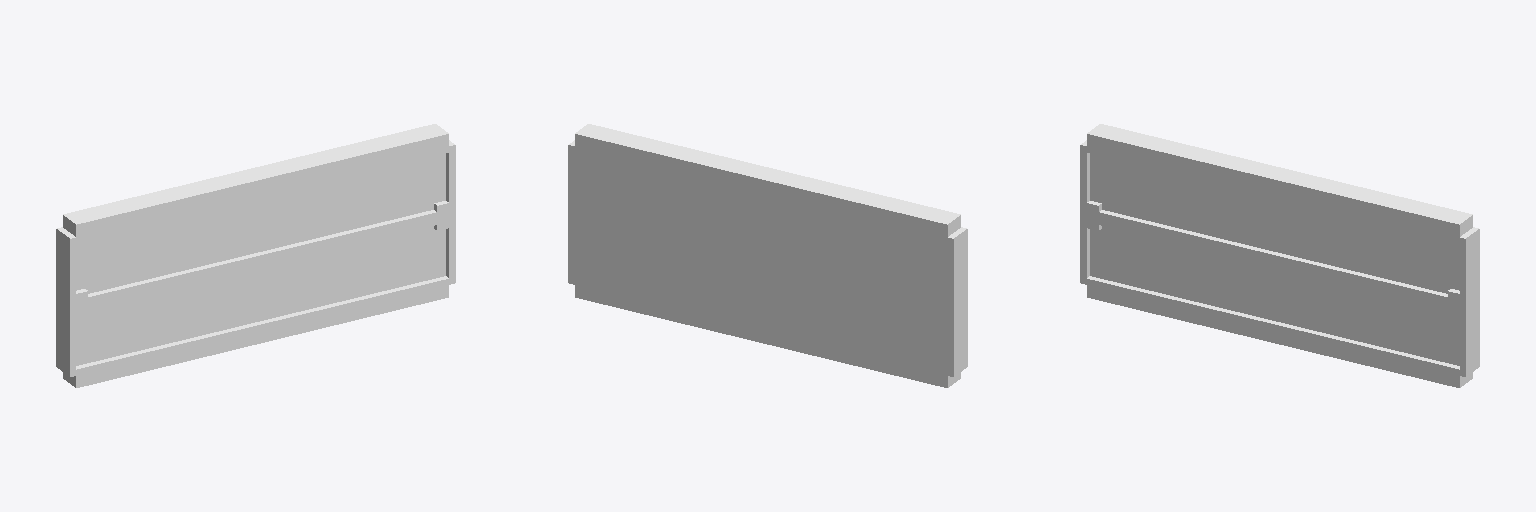
Rendered from Signborad_013.obj.
The picture shows the model from 3 angles: view 1: azimuth 30°, elevation 25°; view 2: azimuth 150°, elevation 25°; view 3: azimuth 330°, elevation 25°; orthographic projection.
Visible parts, largest first — view 1: object 1; view 2: object 1; view 3: object 1.
Boxes of the visible parts, x1,y1,x2,y2 form: object 1: [56, 124, 455, 387]; object 1: [568, 124, 967, 387]; object 1: [1080, 124, 1479, 387].
Bounding box in the file's own units: 6.4 × 2.6 × 0.4.